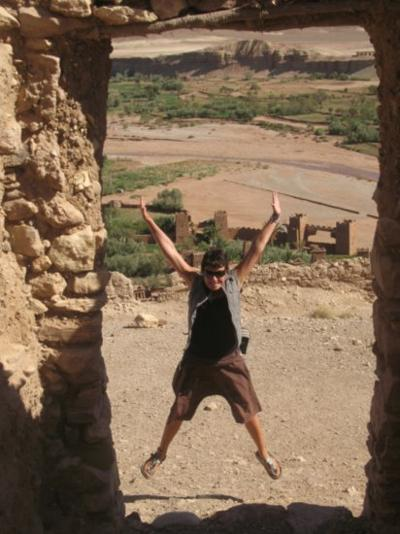person: (138, 193, 284, 479)
